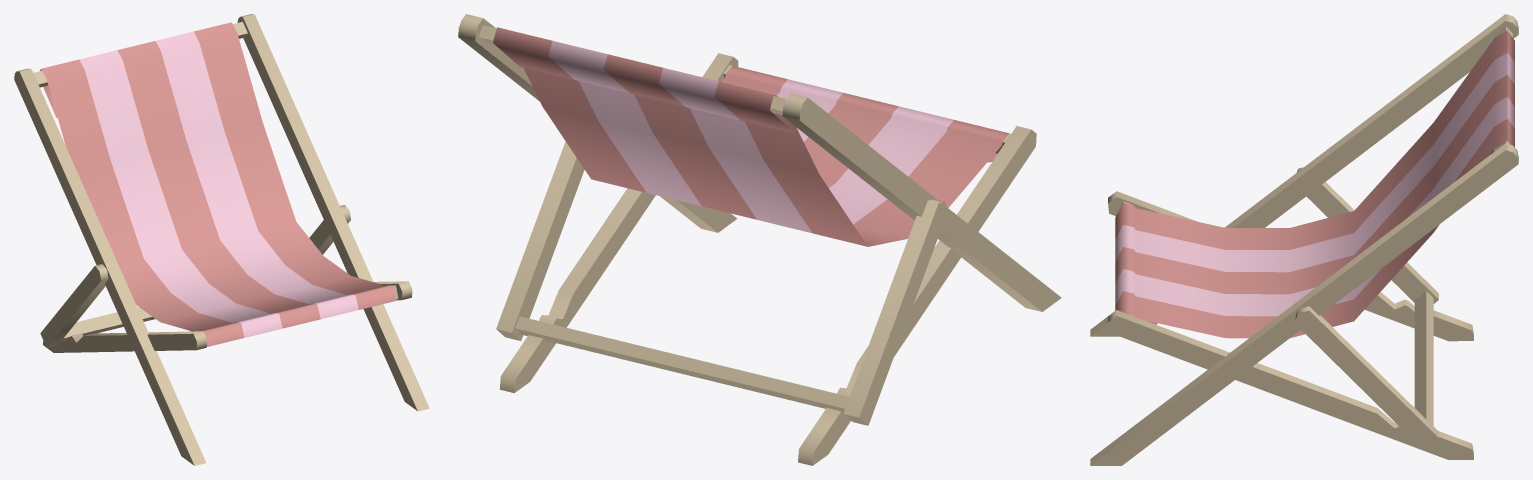
File: BeachChair.fbx
The picture shows the model from 3 angles, left to right: view 1: azimuth 30°, elevation 25°; view 2: azimuth 150°, elevation 25°; view 3: azimuth 270°, elevation 25°; orthographic projection. The views are drawn at different scales.
Visible parts, largest first — view 1: BeachChair_Pink; view 2: BeachChair_Pink; view 3: BeachChair_Pink.
Part boxes in pixels (x1,y1,x2,y2): BeachChair_Pink: (14, 14, 429, 465); BeachChair_Pink: (458, 14, 1061, 465); BeachChair_Pink: (1090, 14, 1518, 465).
Bounding box in the file's own units: 117 × 119 × 146.
